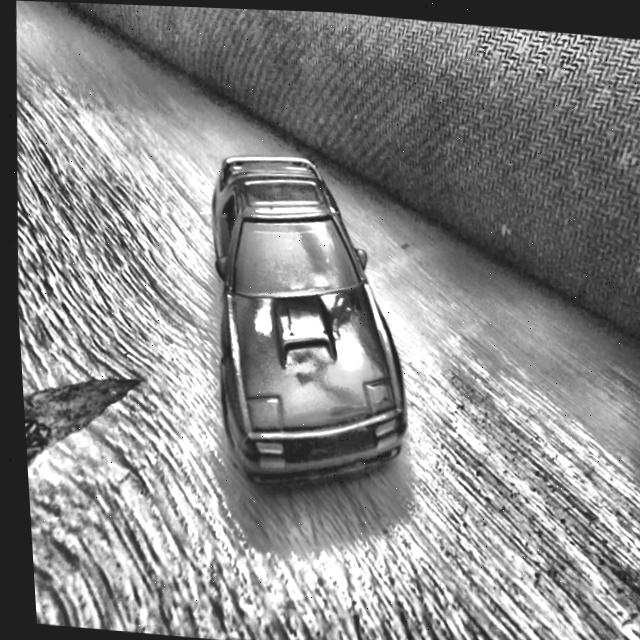car: (193, 146, 420, 496)
